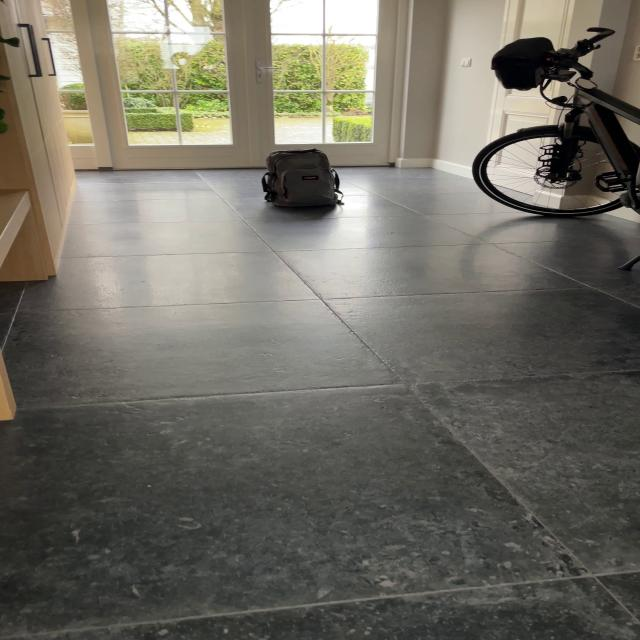backpack: (256, 146, 342, 210)
